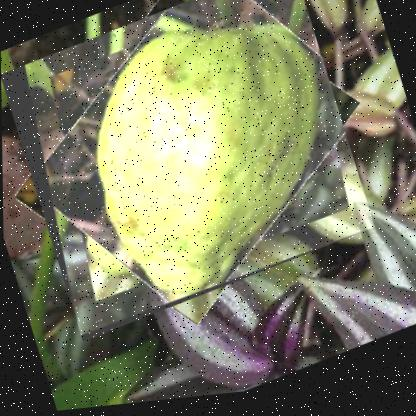guava: (0, 0, 376, 350)
